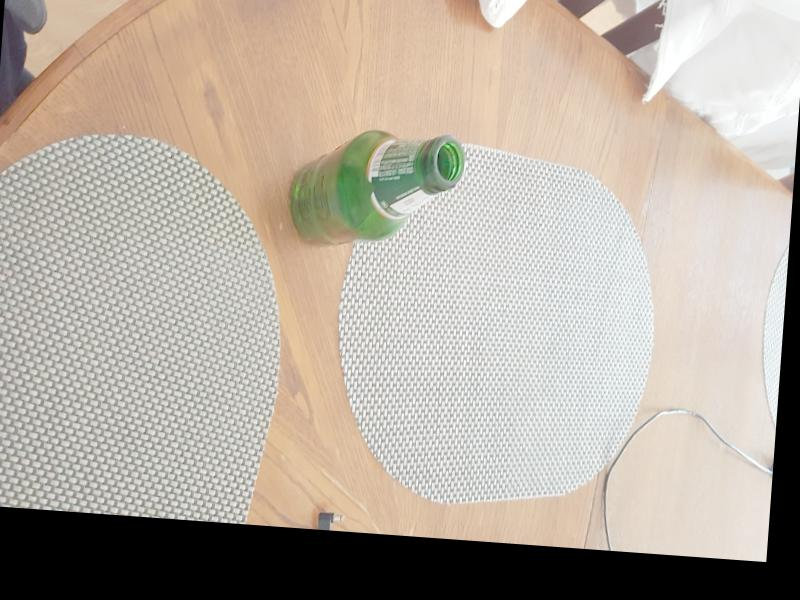Beer: (283, 124, 466, 253)
